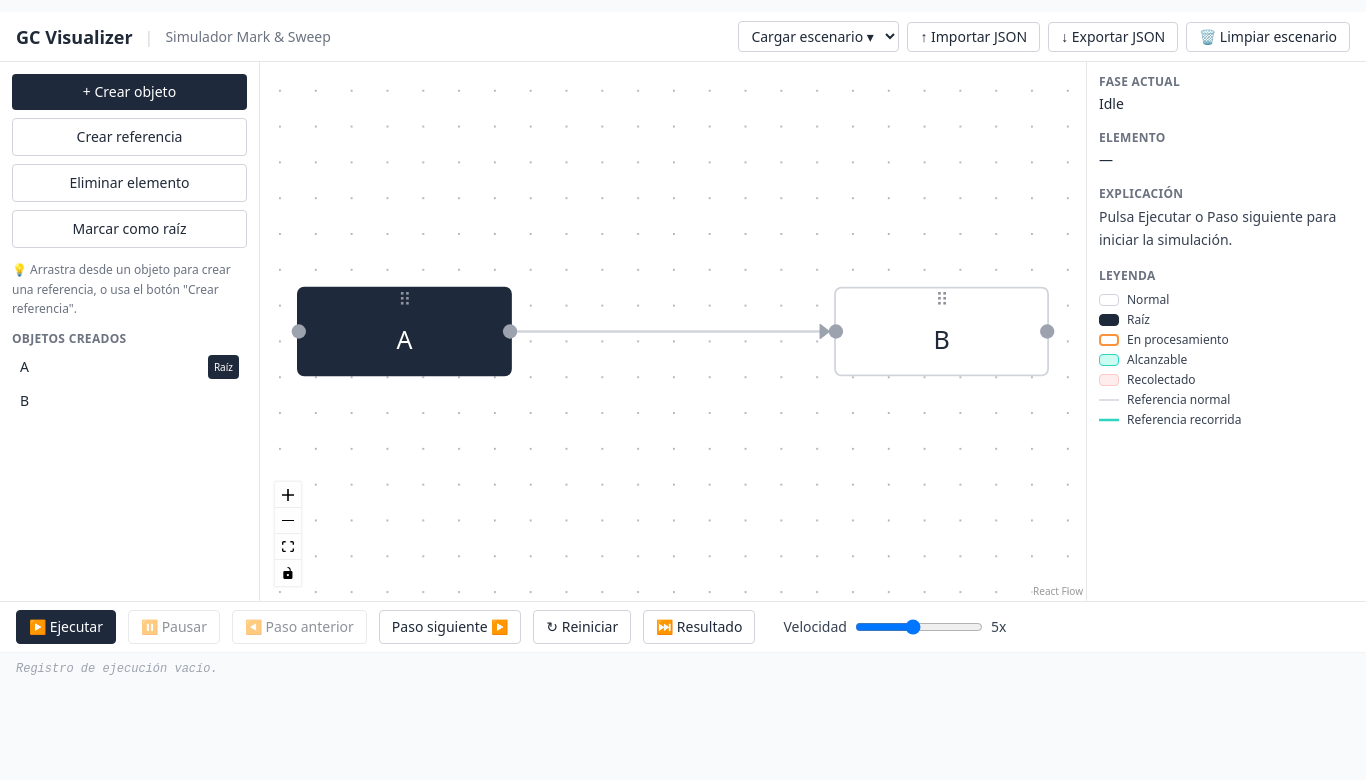
Test: GC Visualizer — End-to-End › TC-E-18: crear referencia por arrastre desde origen hasta destino
This screenshot has width=1366, height=780.
Expected: the element with test id "graph-canvas" is shown, [260,62,1086,601]
Click the button with test id "btn-ejecutar" at point(66, 627), box [16,610,116,644]
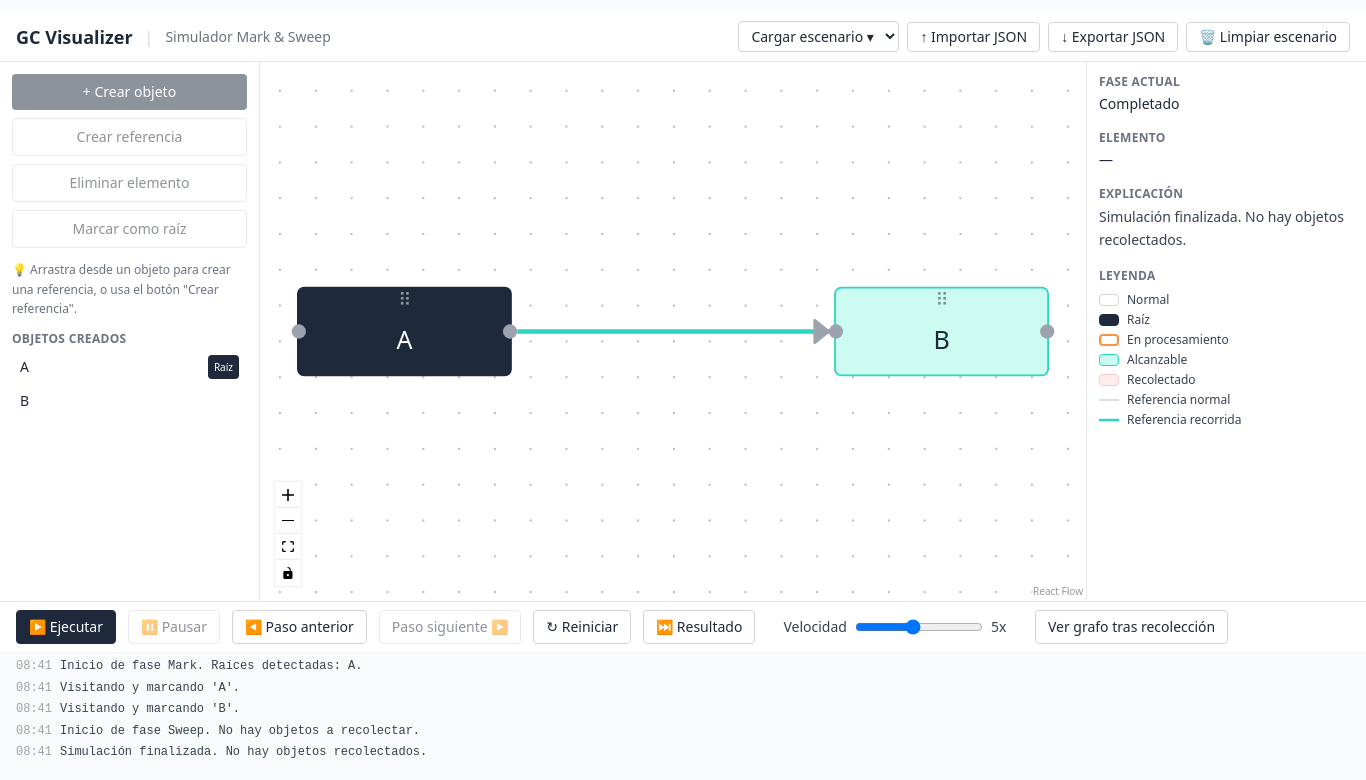
Result: the text with test id "info-fase-actual" reads "Completado" at [1099,94,1180,113]
